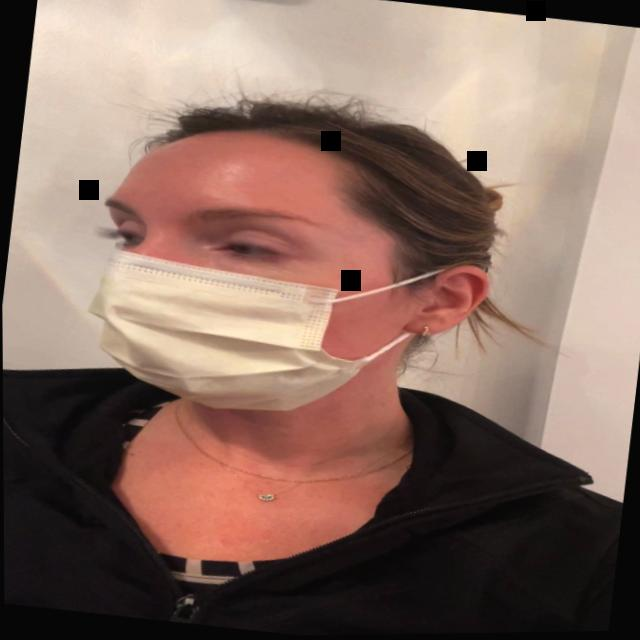Mask: (47, 85, 526, 468)
